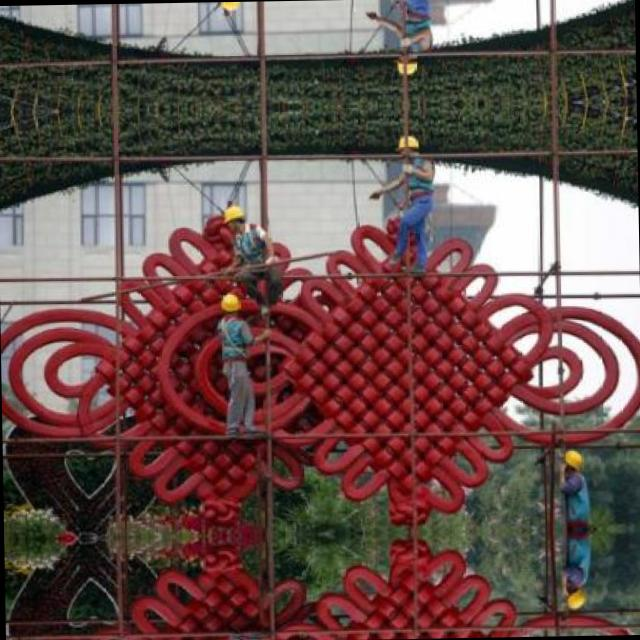helmet: (219, 203, 251, 236), (396, 130, 420, 164), (394, 46, 418, 80), (214, 286, 240, 316), (562, 447, 584, 477), (565, 580, 587, 610), (216, 1, 248, 13)
